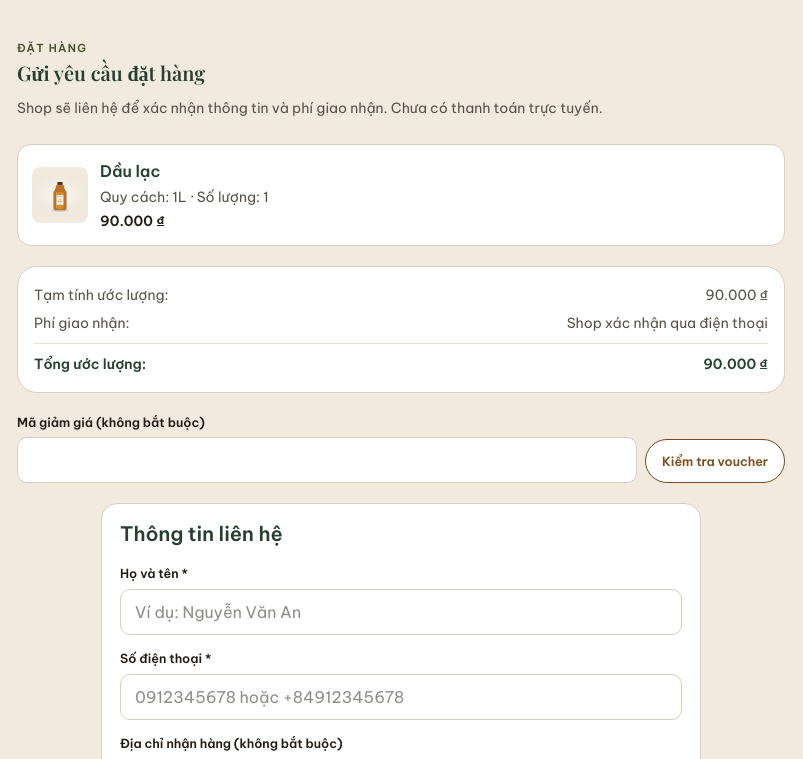
Test: links an unavailable variant response back to the cart
The image size is (803, 759).
In the field with placeholder "Ví dụ: Nguyễn Văn An": point(401, 612) [120, 589, 682, 635], type "Nguyen Van A"
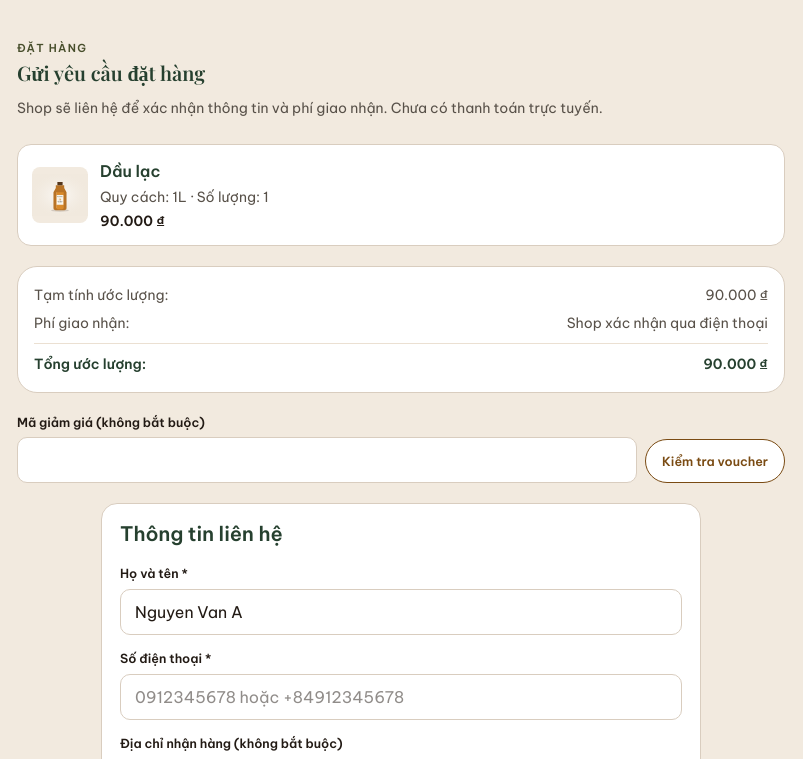
In the field with placeholder "0912345678 hoặc +84912345678": point(401, 697) [120, 674, 682, 720], type "0912345678"
(page scrolled)
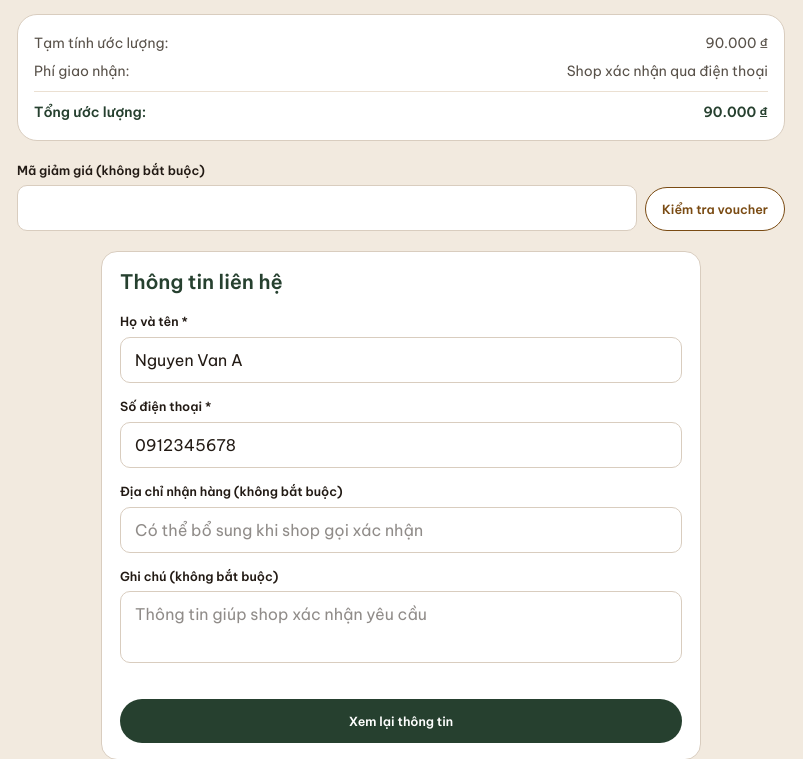
Click the button "Xem lại thông tin": point(401, 721) [120, 699, 682, 743]
(page scrolled)
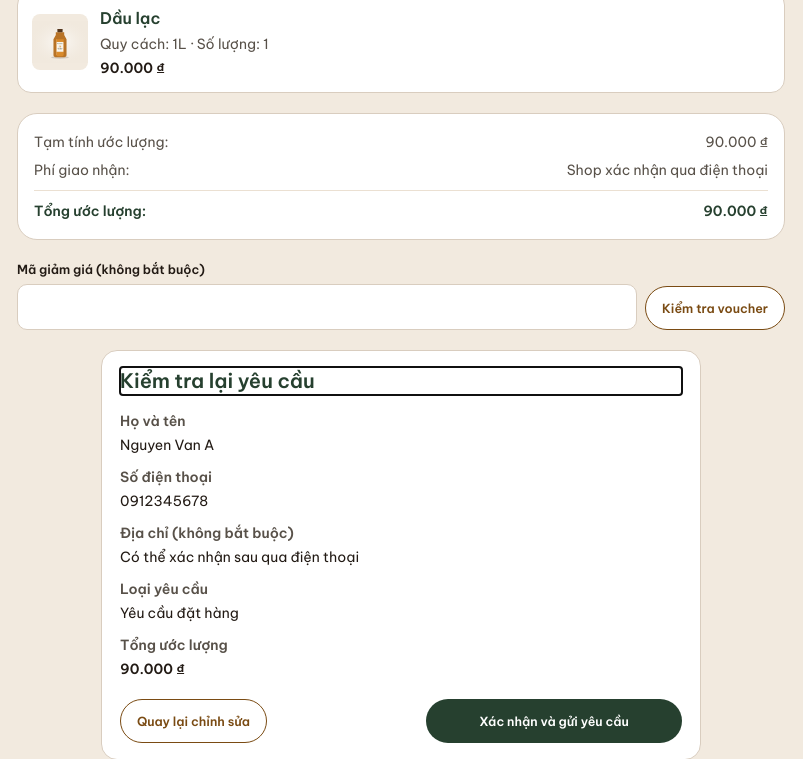
Click the button "Xác nhận và gửi yêu cầu": point(554, 721) [426, 699, 682, 743]
(page scrolled)
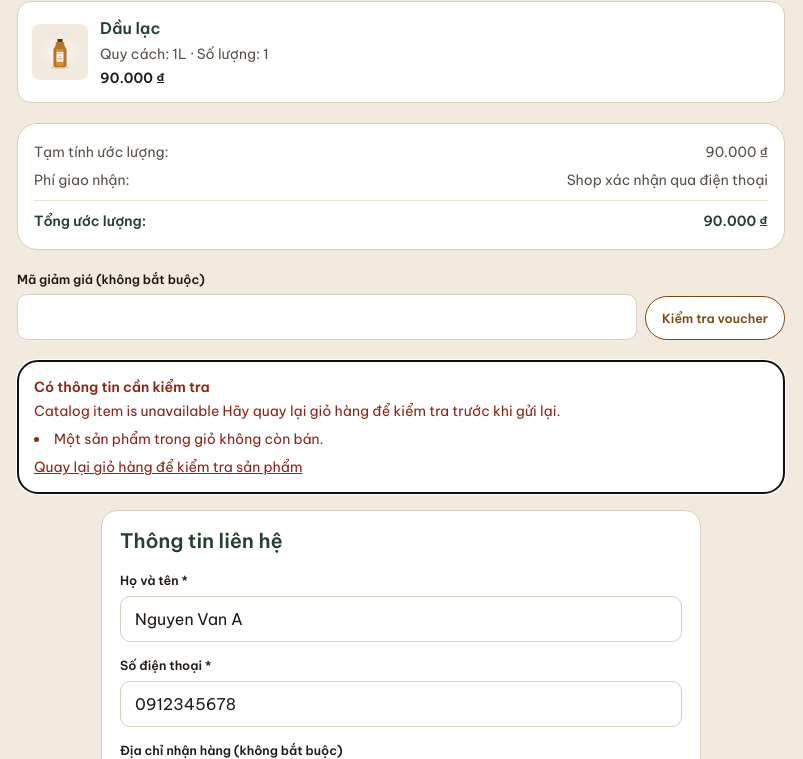
Expected: the text "Catalog item is unavailable" is shown, [34, 402, 560, 420]
